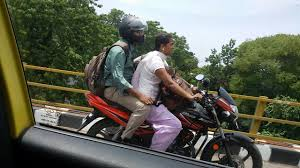helmet: (115, 14, 156, 48)
